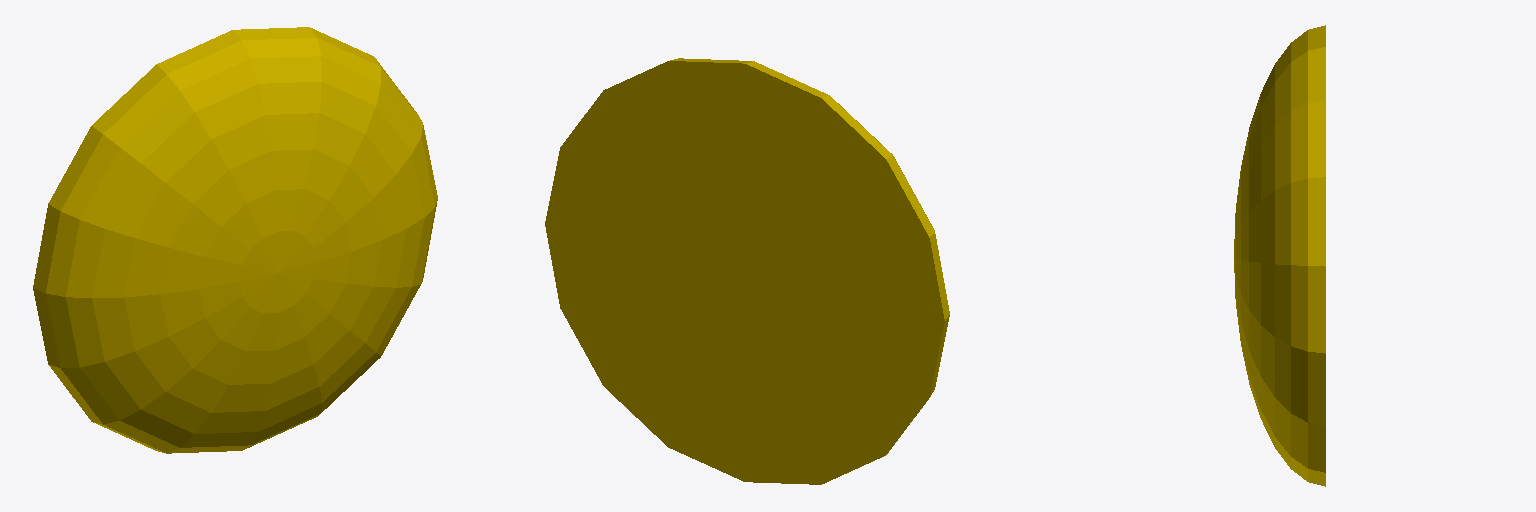
Rendered from bounce.obj.
3 renders of one model, left to right at view 1: azimuth 30°, elevation 25°; view 2: azimuth 150°, elevation 25°; view 3: azimuth 270°, elevation 25°, orthographic.
Visible parts, largest first — view 1: jump_Sphere; view 2: jump_Sphere; view 3: jump_Sphere.
Boxes of the visible parts, x1,y1,x2,y2 form: jump_Sphere: [33, 27, 437, 453]; jump_Sphere: [545, 58, 949, 484]; jump_Sphere: [1234, 25, 1325, 486].
Size of the model in its own units: 1 by 1 by 0.2.